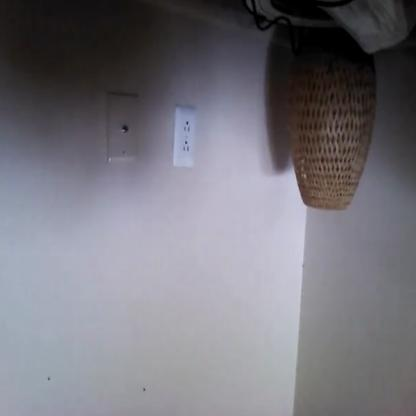OUTLET: (173, 108, 197, 166)
